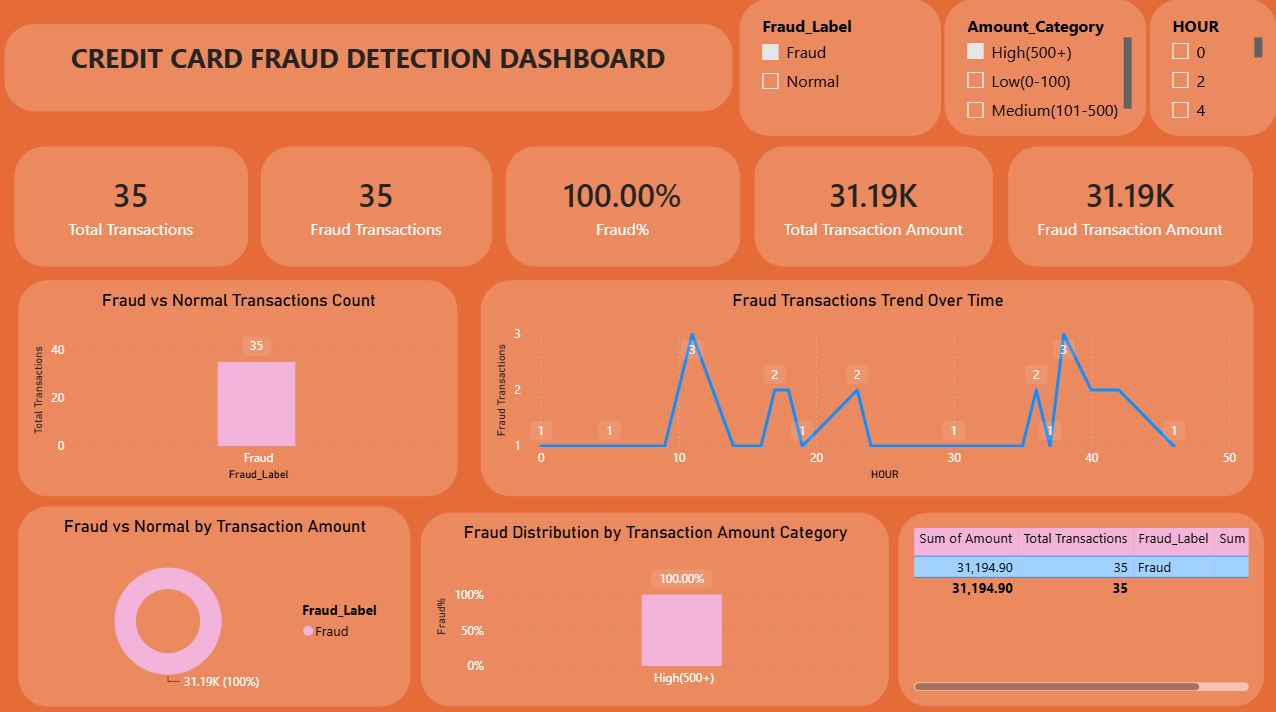

Layout of this report page (visuals, bound fields, positions):
{"tool":"powerbi","page":{"name":"Page 1","canvas":[1280,720],"ordinal":0},"visuals":[{"type":"cardVisual","fields":{"Data":["creditcard.Total Transactions"]},"box":[17.5,147.4,233.5,119.9],"z":0},{"type":"cardVisual","fields":{"Data":["creditcard.Fraud Transactions"]},"box":[263.5,147.4,231,119.9],"z":1000},{"type":"cardVisual","fields":{"Data":["creditcard.Fraud%"]},"box":[508.3,147.4,234.8,119.9],"z":2000},{"type":"cardVisual","fields":{"Data":["creditcard.Total Transaction Amount"]},"box":[758,147.4,238.5,119.9],"z":3000},{"type":"cardVisual","fields":{"Data":["creditcard.Fraud Transaction Amount"]},"box":[1011.5,147.4,244.8,119.9],"z":4000},{"type":"clusteredColumnChart","title":"Fraud vs Normal Transactions Count","fields":{"Category":["creditcard.Fraud_Label"],"Y":["creditcard.Total Transactions"]},"box":[21.2,281,439.6,216],"z":5000},{"type":"donutChart","title":"Fraud vs Normal by Transaction Amount","fields":{"Category":["creditcard.Fraud_Label"],"Y":["Sum(creditcard.Amount)"]},"box":[21.2,507,392.1,199.8],"z":6000},{"type":"lineChart","title":"Fraud Transactions Trend Over Time","fields":{"Category":["creditcard.HOUR"],"Y":["creditcard.Fraud Transactions"]},"box":[483.3,281,773,216],"z":7000},{"type":"columnChart","title":"Fraud Distribution by Transaction Amount Category","fields":{"Category":["creditcard.Amount_Category"],"Y":["creditcard.Fraud%"]},"box":[423.3,513.2,468.3,193.6],"z":8000},{"type":"tableEx","fields":{"Values":["Sum(creditcard.Amount)","creditcard.Total Transactions","creditcard.Fraud_Label","Sum(creditcard.HOUR)"]},"box":[901.6,513.2,365.9,193.6],"z":9000},{"type":"textbox","box":[7.5,25,727.6,87.1],"z":10000},{"type":"slicer","fields":{"Values":["creditcard.Fraud_Label"]},"box":[743,0,201.7,136.5],"z":11000},{"type":"slicer","fields":{"Values":["creditcard.Amount_Category"]},"box":[947.7,0,201.7,136.5],"z":12000},{"type":"slicer","fields":{"Values":["creditcard.HOUR"]},"box":[1152.4,0,127.4,136.5],"z":13000}]}

Visuals, with their boxes in screenshot pixels (x1, y1, x2, y2), scaled from the page's 1280x720 canvas onto the 1276x712 screenshot:
cardVisual - creditcard.Total Transactions: [x1=17, y1=146, x2=250, y2=264]
cardVisual - creditcard.Fraud Transactions: [x1=263, y1=146, x2=493, y2=264]
cardVisual - creditcard.Fraud%: [x1=507, y1=146, x2=741, y2=264]
cardVisual - creditcard.Total Transaction Amount: [x1=756, y1=146, x2=993, y2=264]
cardVisual - creditcard.Fraud Transaction Amount: [x1=1008, y1=146, x2=1252, y2=264]
"Fraud vs Normal Transactions Count" clusteredColumnChart: [x1=21, y1=278, x2=459, y2=491]
"Fraud vs Normal by Transaction Amount" donutChart: [x1=21, y1=501, x2=412, y2=699]
"Fraud Transactions Trend Over Time" lineChart: [x1=482, y1=278, x2=1252, y2=491]
"Fraud Distribution by Transaction Amount Category" columnChart: [x1=422, y1=507, x2=889, y2=699]
tableEx - Sum(creditcard.Amount) x creditcard.Total Transactions: [x1=899, y1=507, x2=1264, y2=699]
textbox: [x1=7, y1=25, x2=733, y2=111]
slicer - creditcard.Fraud_Label: [x1=741, y1=0, x2=942, y2=135]
slicer - creditcard.Amount_Category: [x1=945, y1=0, x2=1146, y2=135]
slicer - creditcard.HOUR: [x1=1149, y1=0, x2=1275, y2=135]
